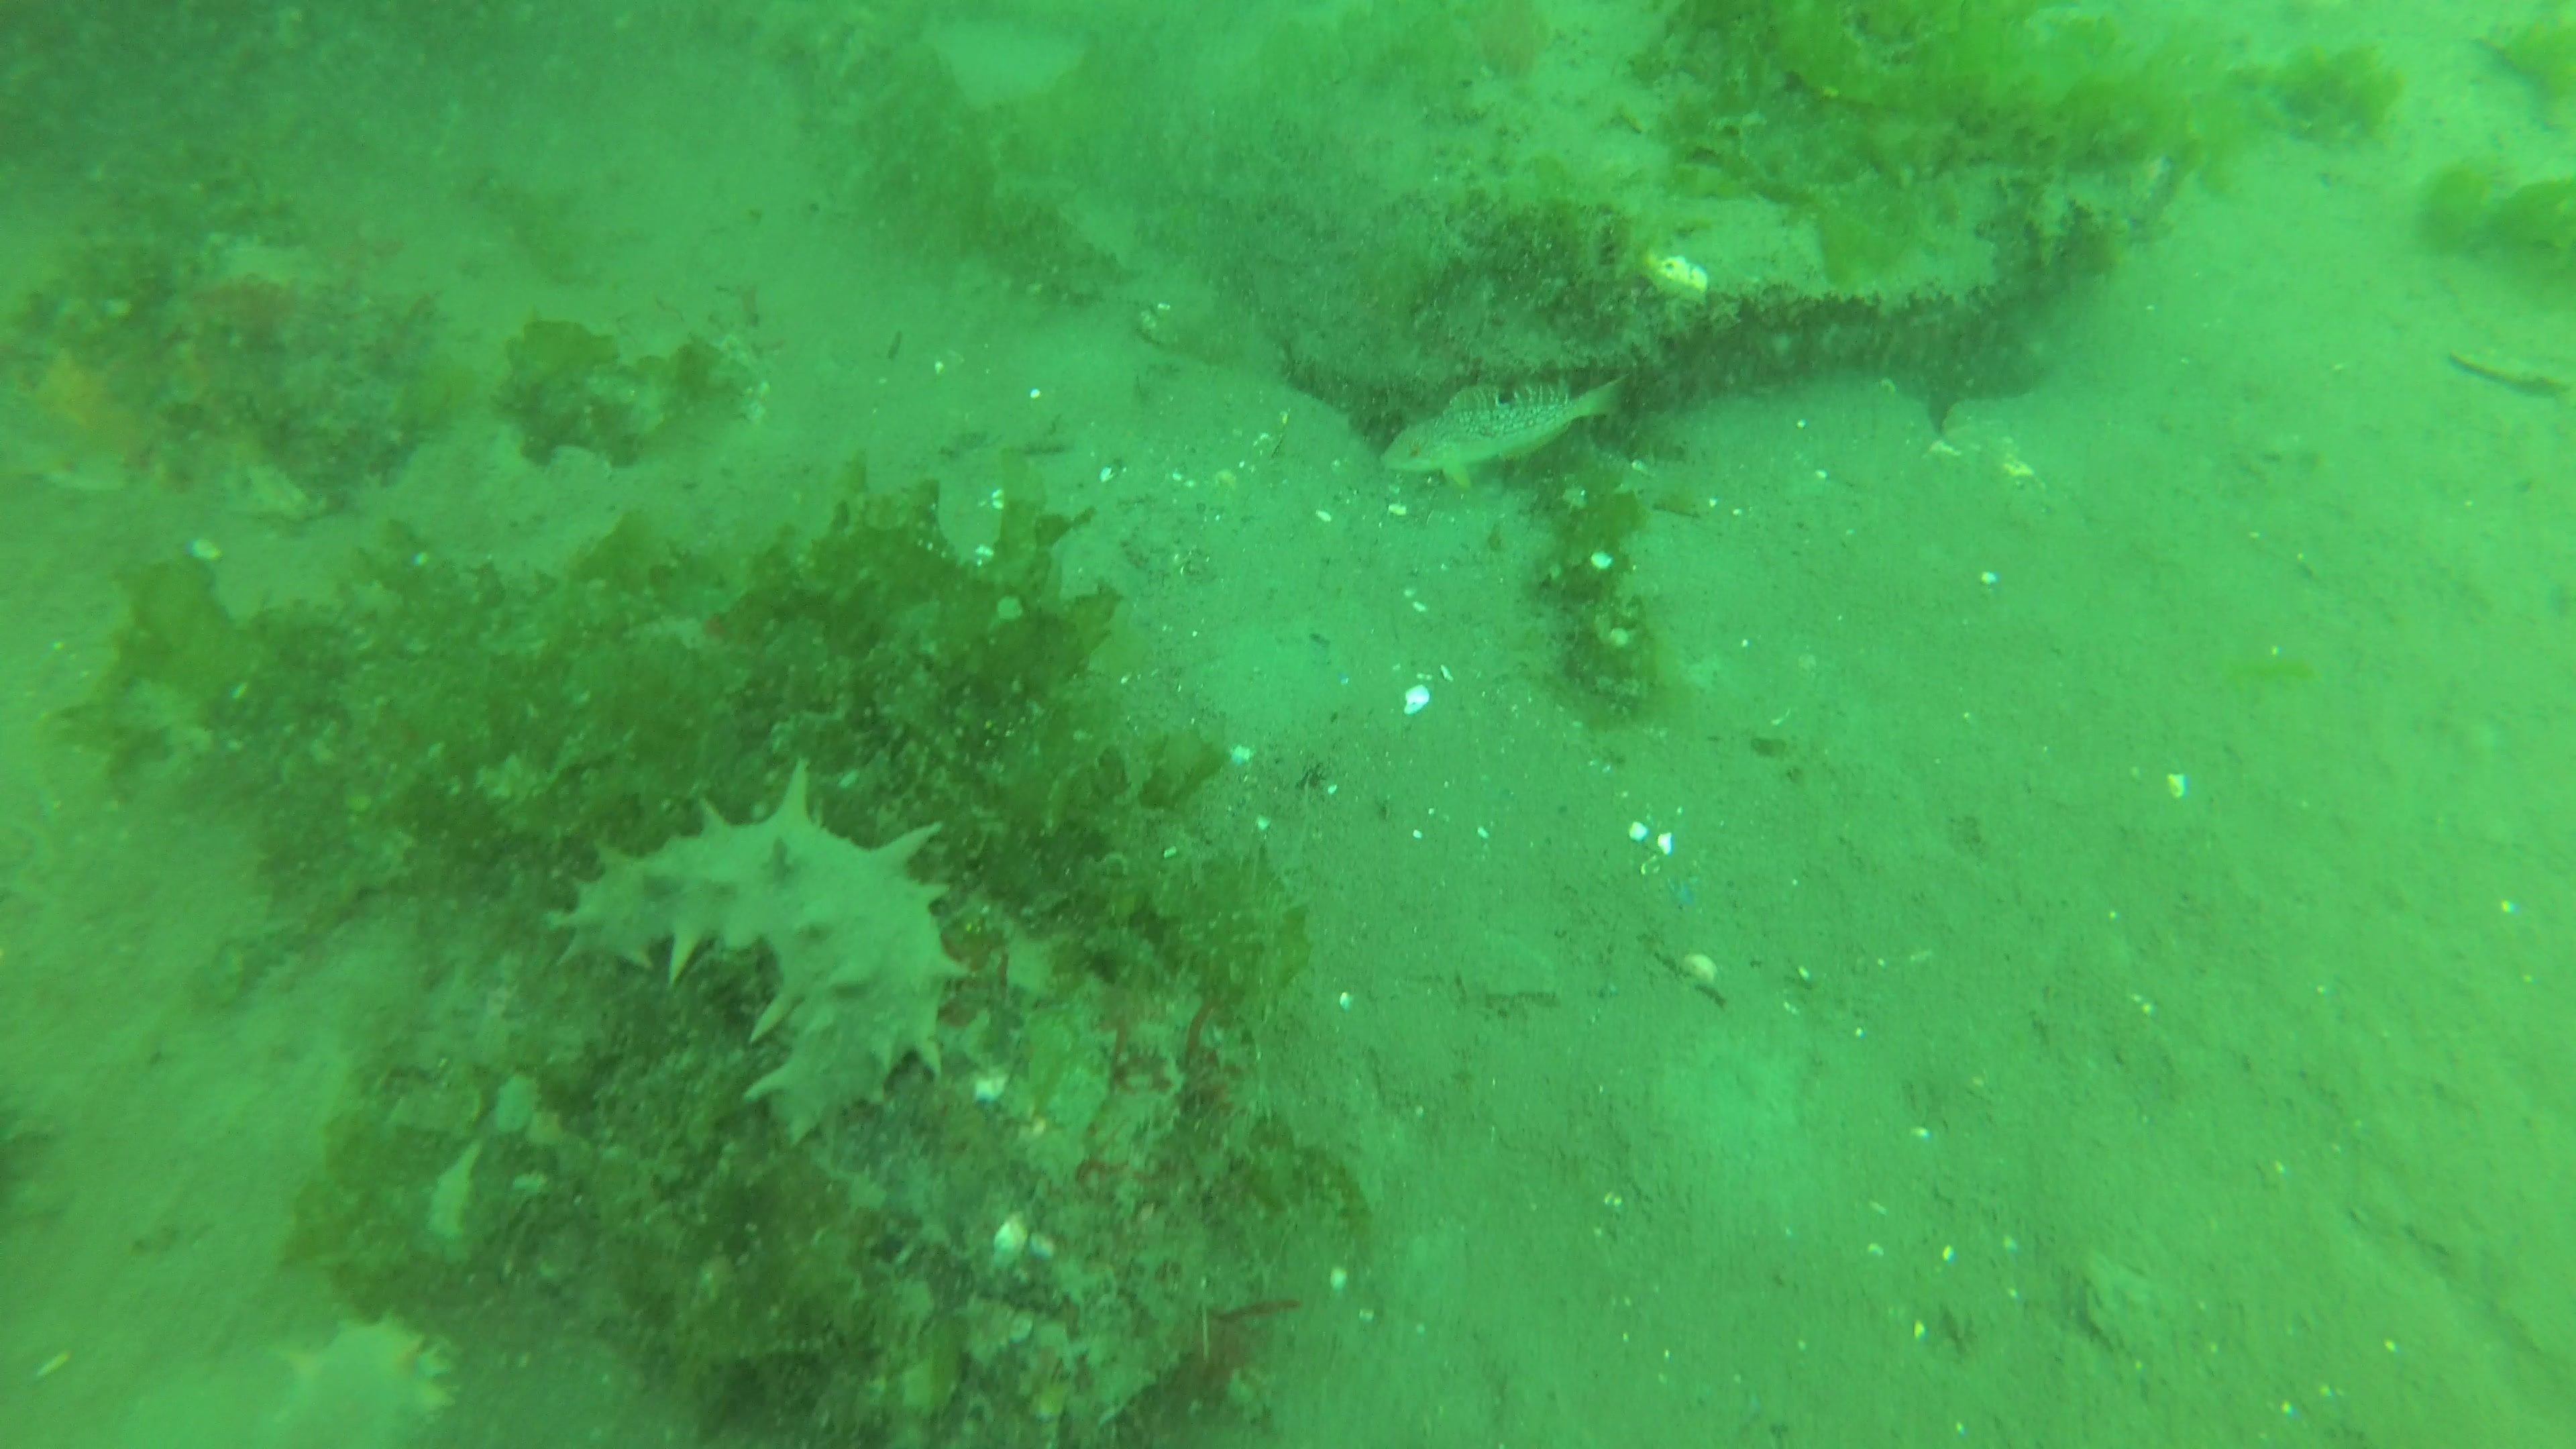holothurian: (543, 759, 971, 1150)
scallop: (2449, 350, 2576, 400)
